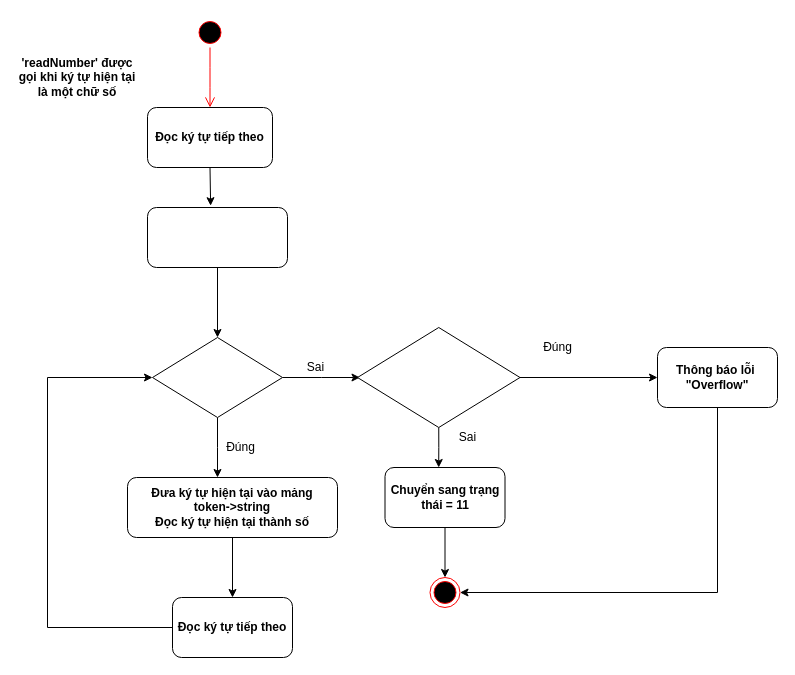
Some shapes in this 795 by 675 pixel diagram are drawn without their labels. Here are the shapes that lost their labels. From the top down, the centre of each, then its label:
the point at 217,237: Khởi tạo trạng thái = 10
the point at 217,377: Ký tự hiện tại là digit
the point at 438,377: Số vừa đọc được lớn hơn giá trị cho phép
